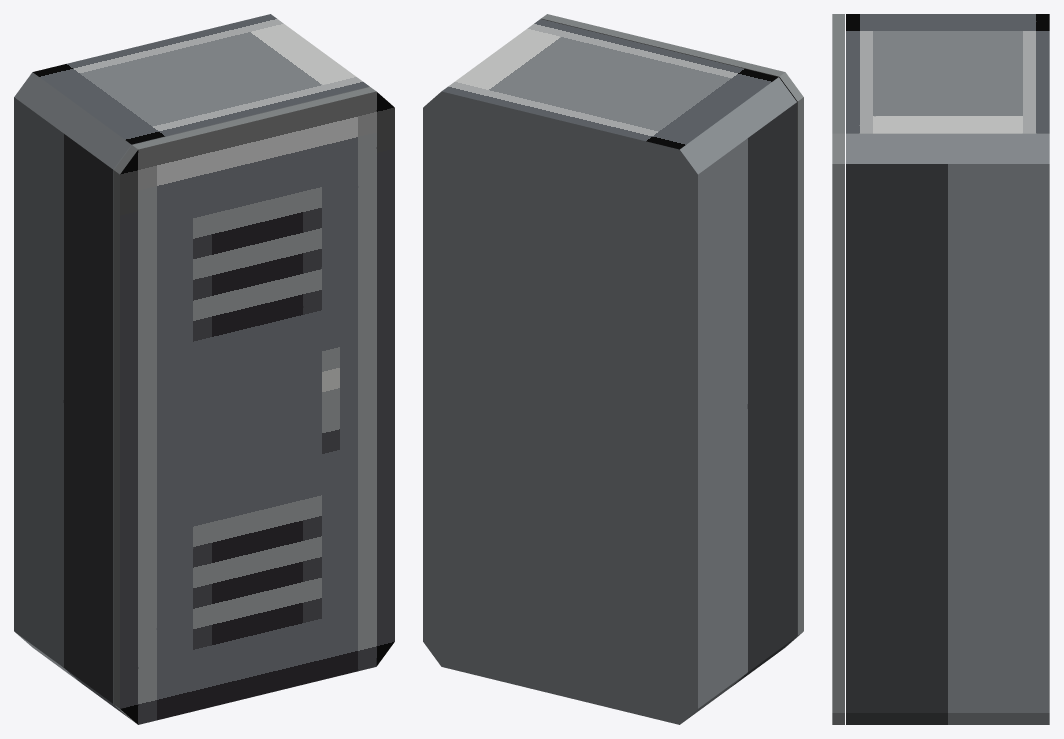
File: locker_wardrobe.glb
The picture shows the model from 3 angles, left to right: view 1: azimuth 30°, elevation 25°; view 2: azimuth 150°, elevation 25°; view 3: azimuth 270°, elevation 25°; orthographic projection. The views are drawn at different scales.
Parts seen in each view (by area): view 1: Locker_Door, Locker_Body; view 2: Locker_Body, Locker_Door; view 3: Locker_Body, Locker_Door.
Part boxes in pixels (<box>): Locker_Door: <box>113,87,394,724</box>; Locker_Body: <box>14,14,369,719</box>; Locker_Body: <box>423,19,796,724</box>; Locker_Door: <box>541,14,803,650</box>; Locker_Body: <box>846,14,1049,724</box>; Locker_Door: <box>832,14,844,724</box>.
Size of the model in its own units: 0.9 by 1.8 by 0.6.
Materials: 3 (3 with a texture image).
